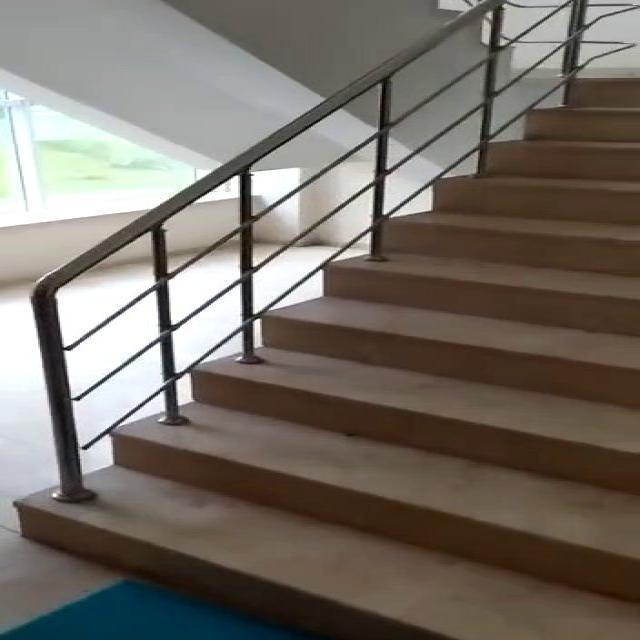stairs: (11, 74, 638, 639)
